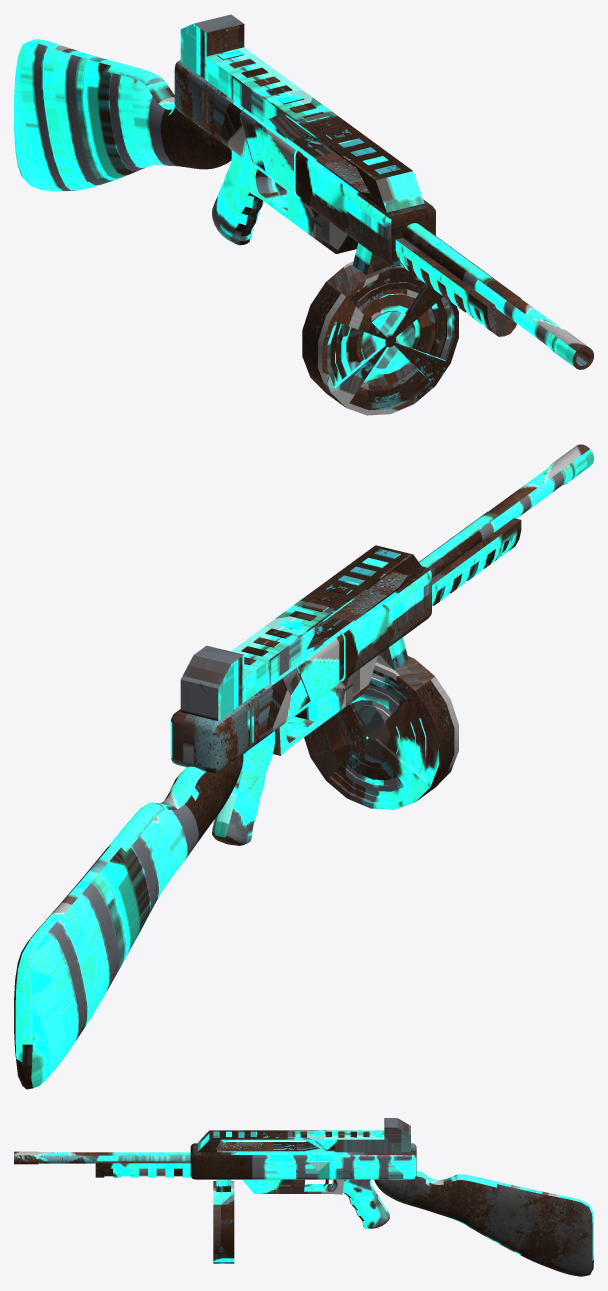
The model's file is TommyVercettiGun.fbx.
The picture shows the model from 3 angles, top to bottom: view 1: azimuth 30°, elevation 25°; view 2: azimuth 150°, elevation 25°; view 3: azimuth 270°, elevation 25°; orthographic projection. The views are drawn at different scales.
Parts seen in each view (by area): view 1: Cube.334, Cube.336, Cube.317, Cube.333, Cube.335, Cube.316; view 2: Cube.334, Cube.336, Cube.317, Cube.335, Cube.316, Cube.333; view 3: Cube.334, Cube.336, Cube.317, Cube.333, Cube.335, Cube.316.
Part boxes in pixels (x1,y1,x2,y2): Cube.334: (174,14,593,369); Cube.336: (14,39,231,191); Cube.317: (302,243,458,415); Cube.333: (395,231,521,336); Cube.335: (212,150,263,245); Cube.316: (249,163,357,253); Cube.334: (170,444,593,773); Cube.336: (14,754,243,1089); Cube.317: (304,637,458,809); Cube.335: (212,731,274,845); Cube.316: (273,655,377,755); Cube.333: (419,511,521,605); Cube.334: (14,1118,416,1179); Cube.336: (374,1171,593,1276); Cube.317: (213,1179,234,1263); Cube.333: (95,1161,191,1177); Cube.335: (343,1179,389,1228); Cube.316: (242,1179,343,1194).
Size of the model in its own units: 8.43 by 17.5 by 59.86.
